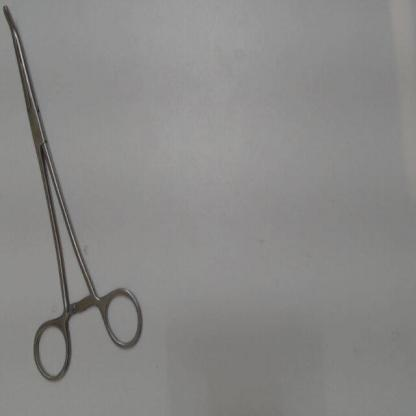Lahey Forceps: (0, 1, 150, 386)
